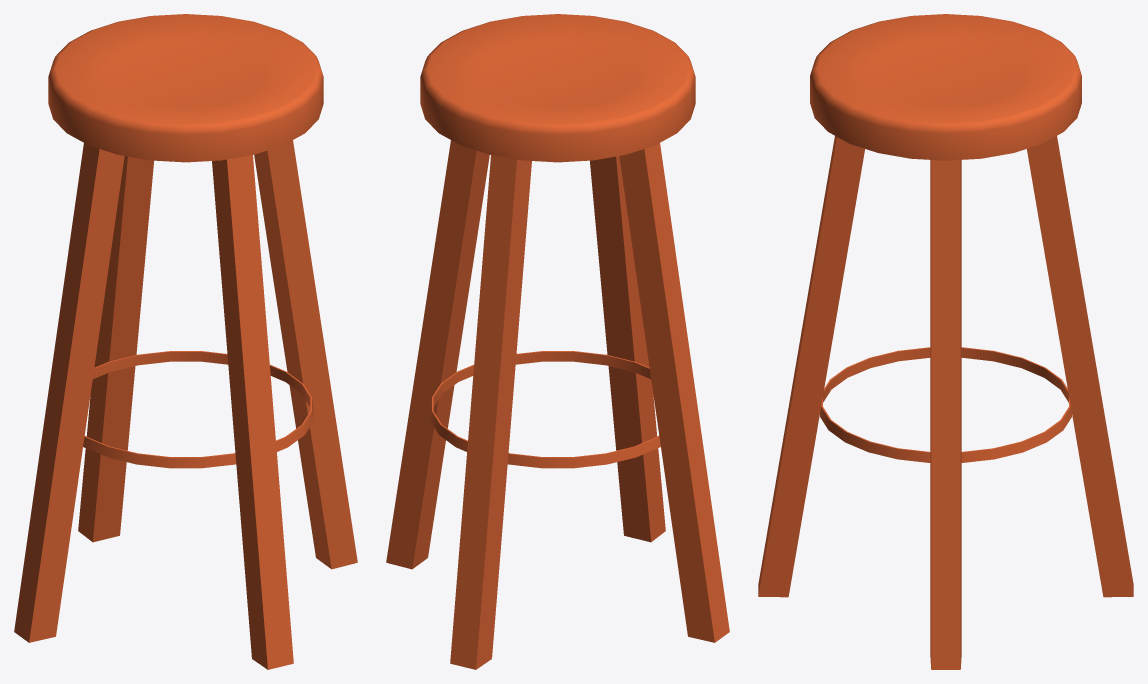
File: Bar_Stool.fbx
3 renders of one model, left to right at view 1: azimuth 30°, elevation 25°; view 2: azimuth 150°, elevation 25°; view 3: azimuth 270°, elevation 25°, orthographic.
Visible parts, largest first — view 1: Barstool_low; view 2: Barstool_low; view 3: Barstool_low.
Part boxes in pixels (x1=…): Barstool_low: x1=14, y1=14, x2=357, y2=669; Barstool_low: x1=386, y1=14, x2=729, y2=669; Barstool_low: x1=758, y1=14, x2=1133, y2=669.
Size of the model in its own units: 4832 by 7418 by 4832.
